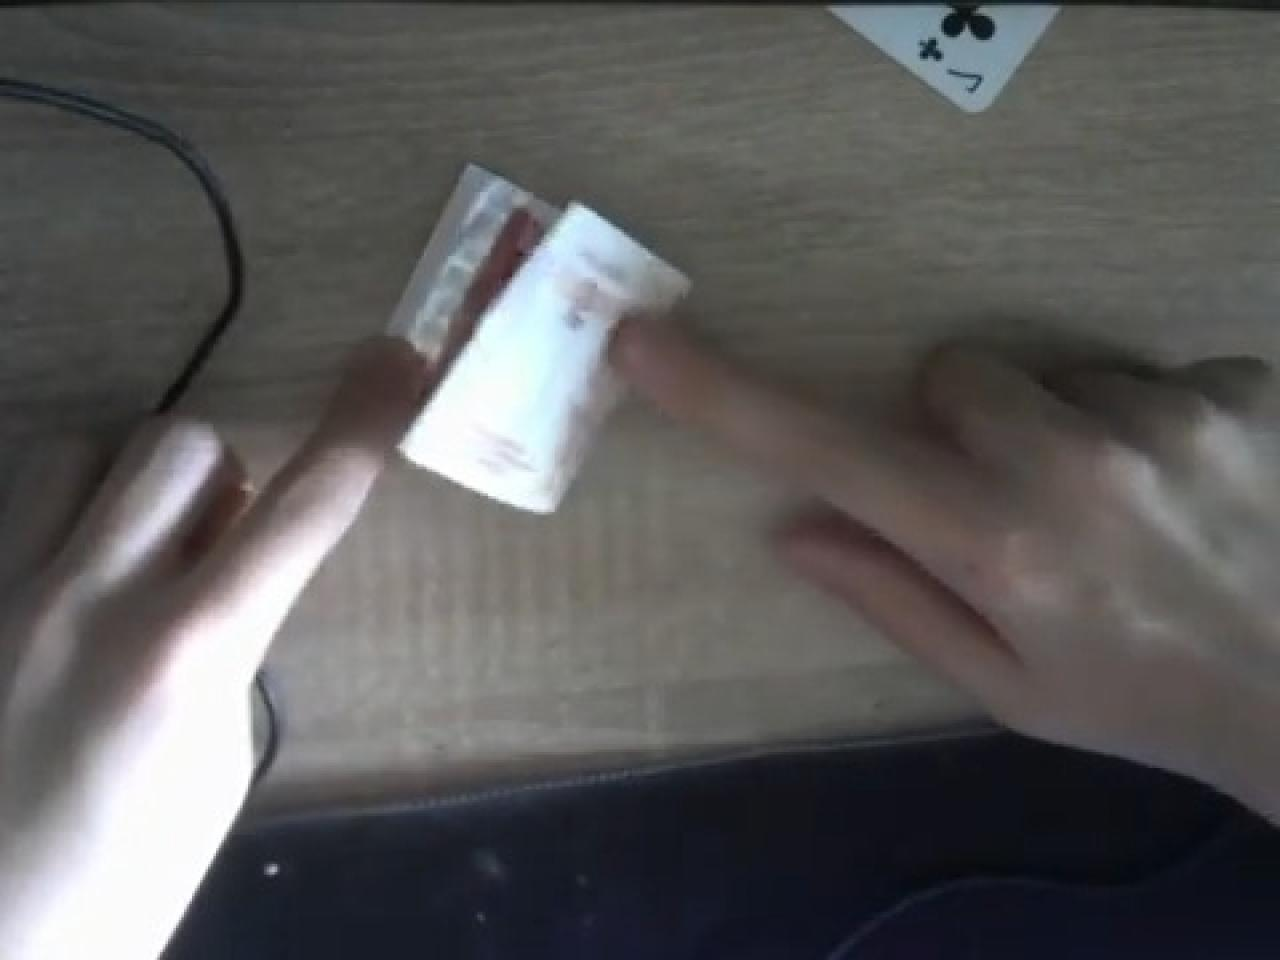5leva: (395, 168, 693, 515)
